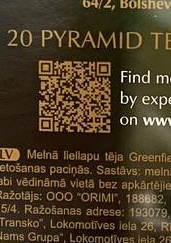2d: (38, 58, 113, 134)
